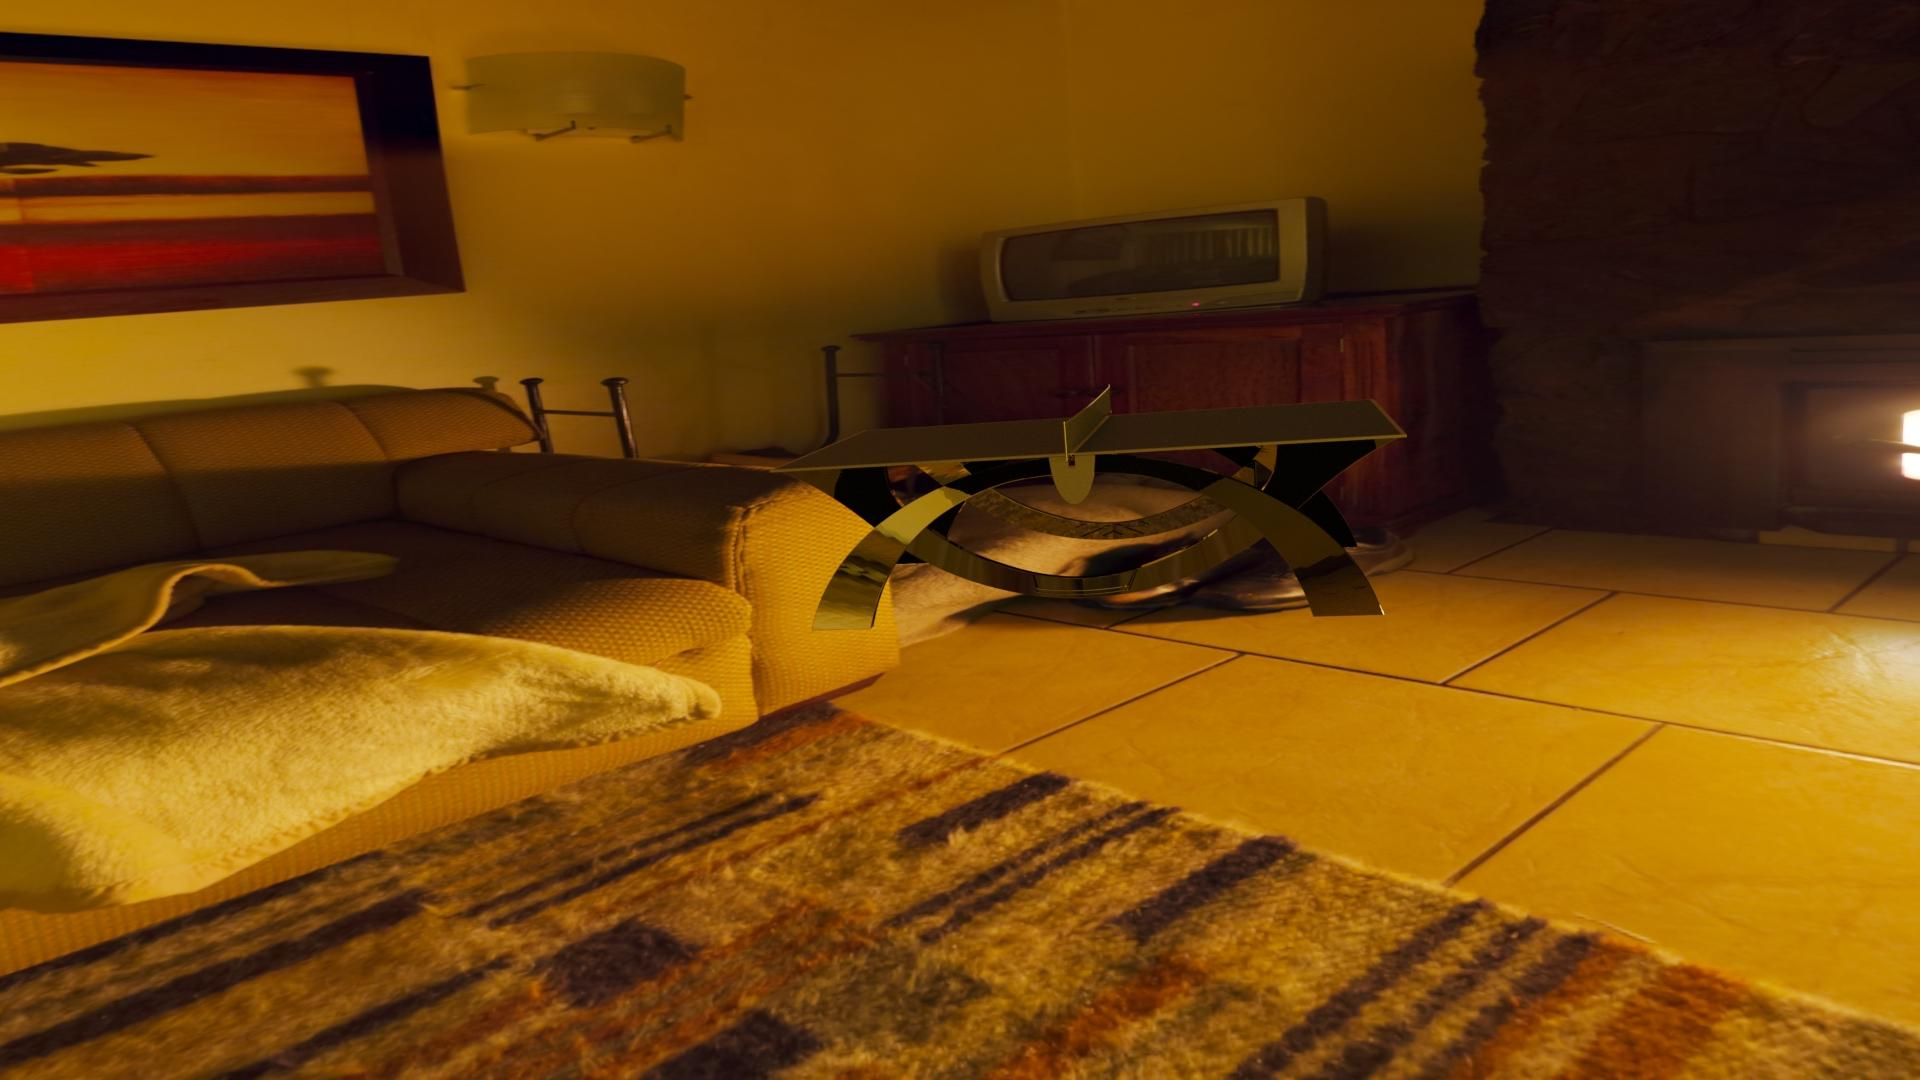table: (775, 400, 1400, 469)
